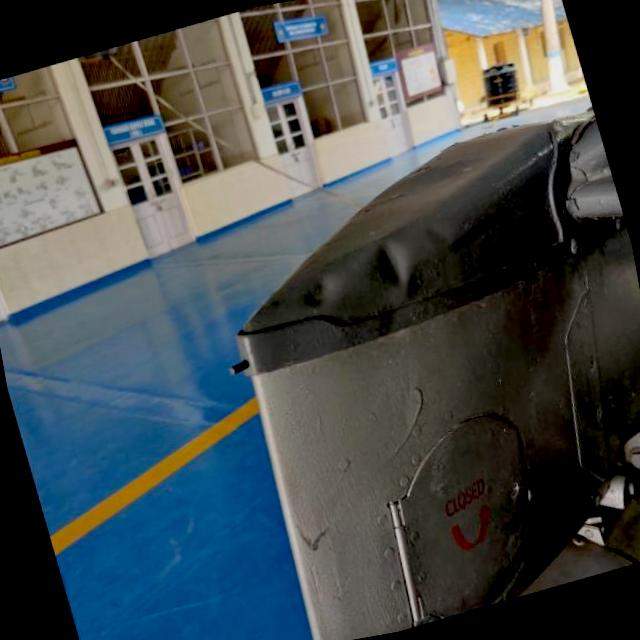dent: (362, 228, 427, 310), (280, 256, 350, 328)
